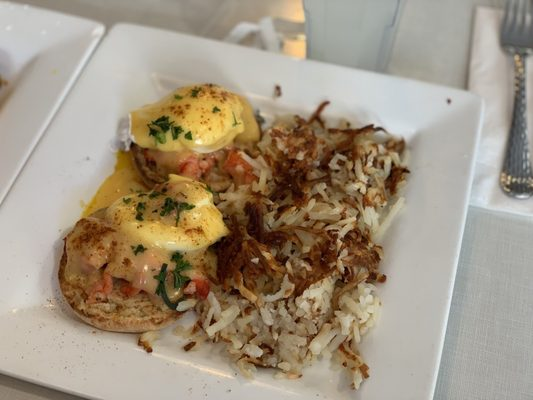pizza: (302, 0, 403, 73)
